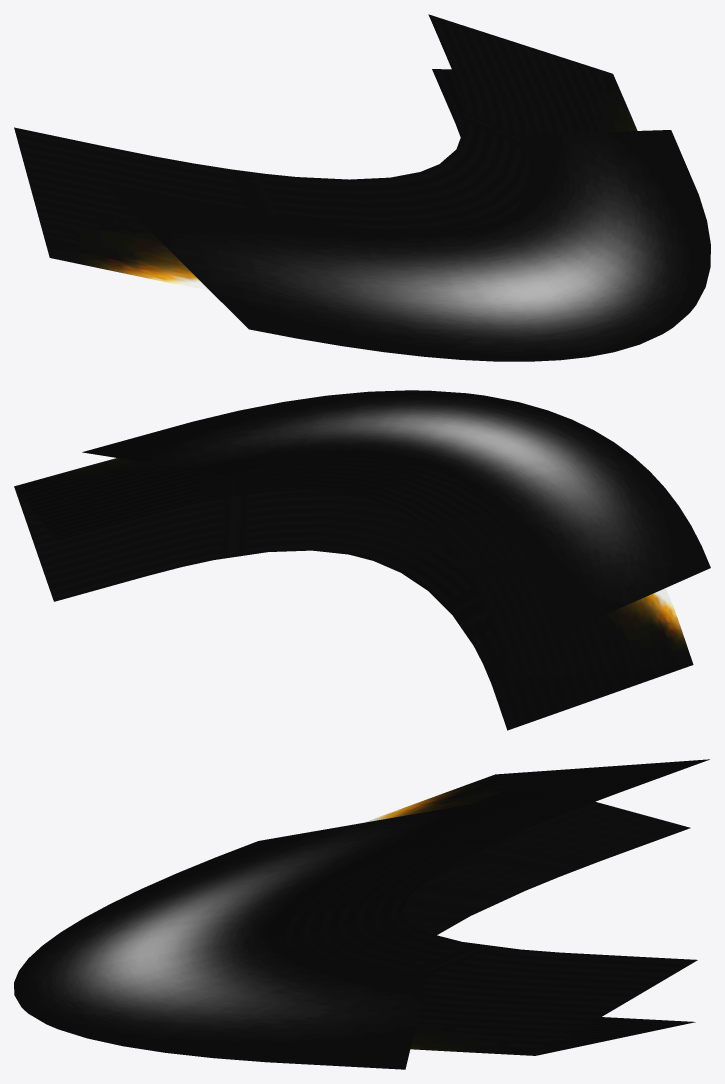
File: 024_Kenso@Spell3_Atk2.fbx
3 renders of one model, top to bottom at view 1: azimuth 30°, elevation 25°; view 2: azimuth 150°, elevation 25°; view 3: azimuth 270°, elevation 25°, orthographic. The views are drawn at different scales.
Parts seen in each view (by area): view 1: 01_light, 01_trail_a; view 2: 01_trail_a, 01_light; view 3: 01_light, 01_trail_a.
Part boxes in pixels (left/top/right/bottom): 01_light: left=100, top=130, right=710, bottom=361; 01_trail_a: left=14, top=14, right=637, bottom=290; 01_trail_a: left=14, top=455, right=693, bottom=730; 01_light: left=82, top=390, right=710, bottom=635; 01_light: left=14, top=787, right=571, bottom=1069; 01_trail_a: left=279, top=759, right=709, bottom=1055.
Size of the model in its own units: 7.71 by 1.04 by 7.24.
4 materials, 4 textured.
